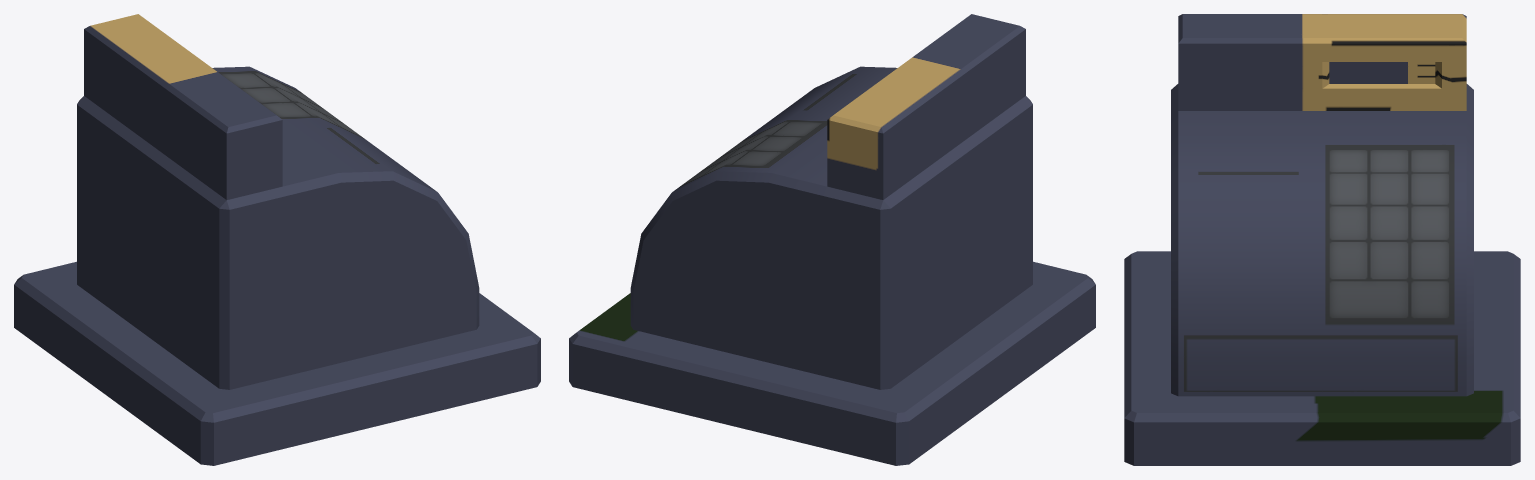
File: Old cash register.fbx
The picture shows the model from 3 angles, left to right: view 1: azimuth 30°, elevation 25°; view 2: azimuth 150°, elevation 25°; view 3: azimuth 270°, elevation 25°; orthographic projection.
Parts seen in each view (by area): view 1: Old Cash register; view 2: Old Cash register; view 3: Old Cash register.
Part boxes in pixels (x1=…): Old Cash register: x1=14, y1=14, x2=540, y2=465; Old Cash register: x1=569, y1=14, x2=1095, y2=465; Old Cash register: x1=1124, y1=14, x2=1520, y2=465.
Size of the model in its own units: 1.47 by 1.27 by 1.47.
1 material, 1 textured.
